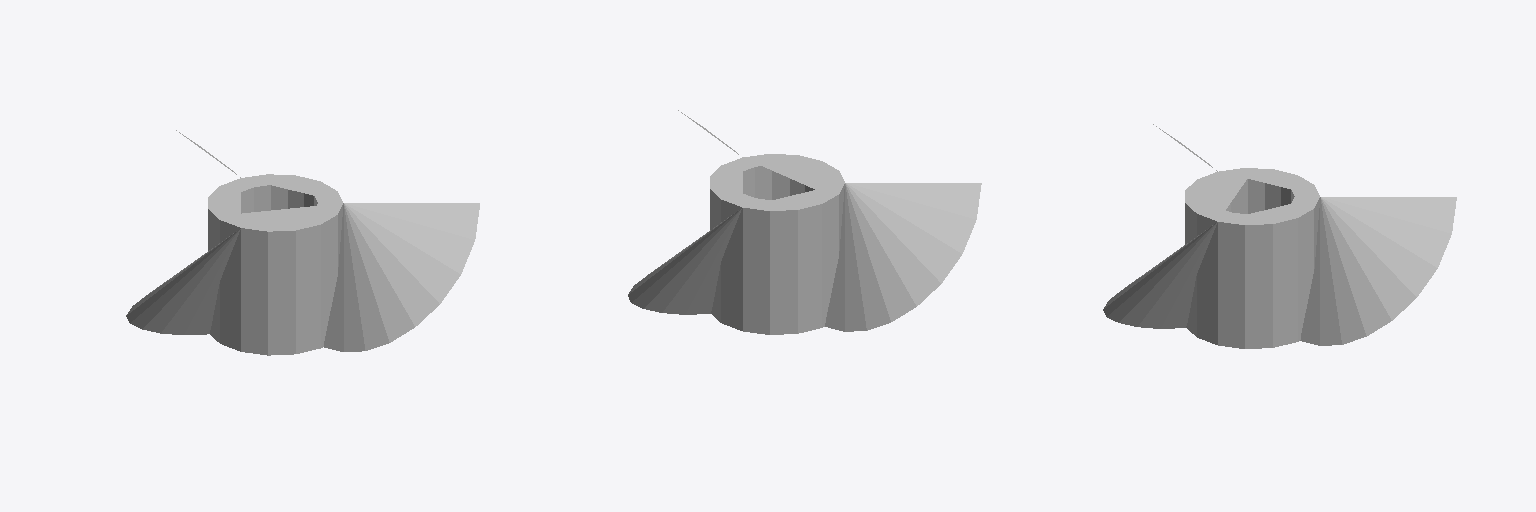
File: prop.obj
3 views of the same model, side by side, from view 1: azimuth 30°, elevation 25°; view 2: azimuth 150°, elevation 25°; view 3: azimuth 270°, elevation 25° (orthographic).
Visible parts, largest first — view 1: fins_Circle.004, Cylinder_Cylinder.001; view 2: fins_Circle.004, Cylinder_Cylinder.001; view 3: fins_Circle.004, Cylinder_Cylinder.001.
Part boxes in pixels (bbox=[...]): fins_Circle.004: bbox=[126, 130, 479, 351]; Cylinder_Cylinder.001: bbox=[208, 174, 343, 355]; fins_Circle.004: bbox=[628, 110, 981, 331]; Cylinder_Cylinder.001: bbox=[710, 154, 844, 334]; fins_Circle.004: bbox=[1103, 124, 1456, 345]; Cylinder_Cylinder.001: bbox=[1185, 168, 1319, 348].
Bounding box in the file's own units: 0.5375 × 0.2 × 0.5181.